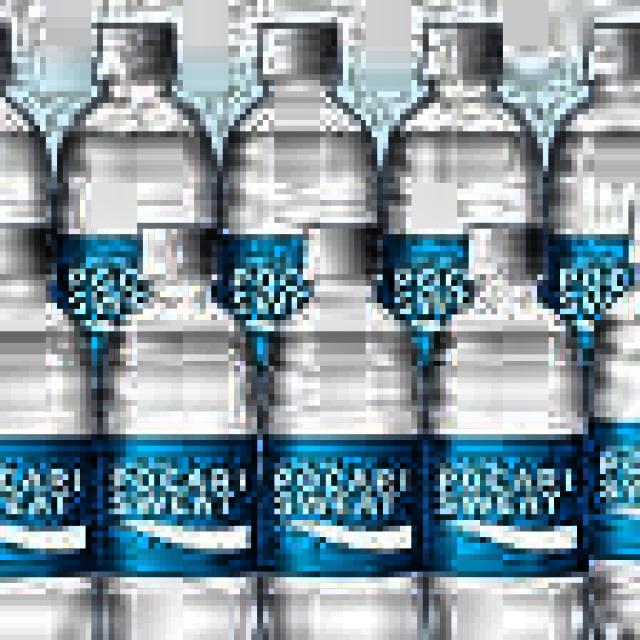plastic: (379, 33, 541, 359), (60, 26, 218, 359), (126, 257, 263, 640), (221, 30, 376, 362), (303, 291, 440, 640), (474, 303, 612, 640), (0, 257, 97, 640), (548, 5, 640, 377), (588, 205, 640, 640), (0, 17, 46, 360)
